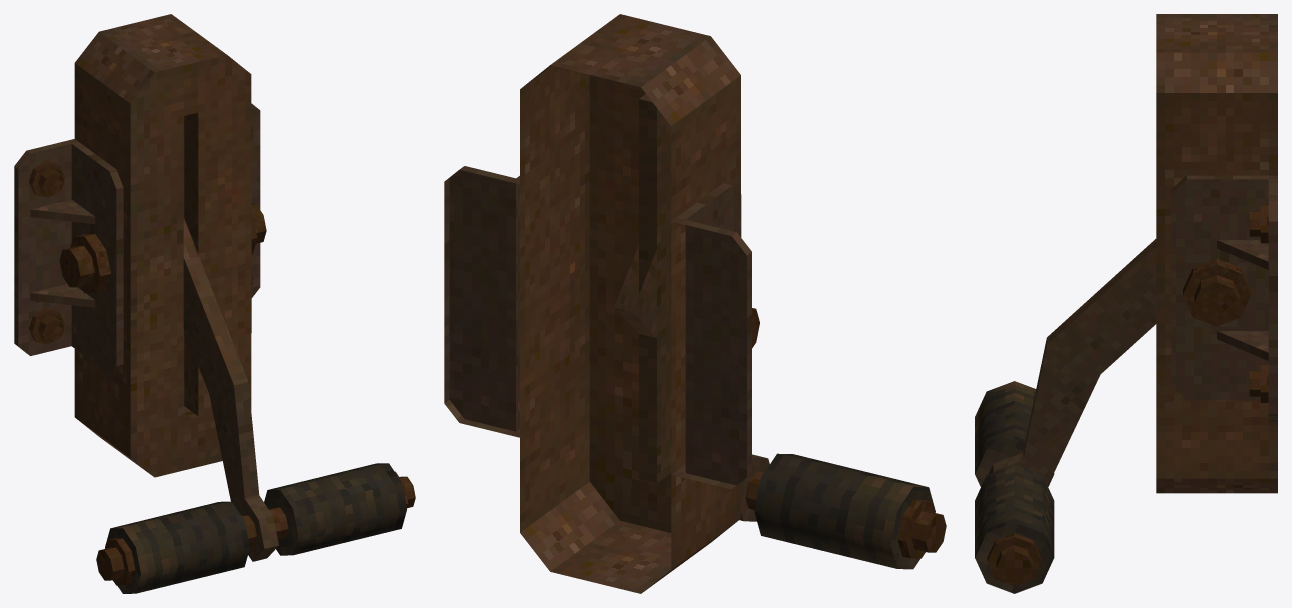
The model's file is lever_etx_8.glb.
3 renders of one model, left to right at view 1: azimuth 30°, elevation 25°; view 2: azimuth 150°, elevation 25°; view 3: azimuth 270°, elevation 25°, orthographic. The views are drawn at different scales.
Parts seen in each view (by area): view 1: lever_etx_8, lever_etx_8_child; view 2: lever_etx_8, lever_etx_8_child; view 3: lever_etx_8, lever_etx_8_child.
Part boxes in pixels (x1,y1,x2,y2): lever_etx_8: [14, 14, 266, 477]; lever_etx_8_child: [96, 218, 415, 593]; lever_etx_8: [444, 14, 759, 593]; lever_etx_8_child: [614, 244, 946, 569]; lever_etx_8: [1156, 14, 1277, 493]; lever_etx_8_child: [975, 239, 1156, 593].
Size of the model in its own units: 0.2254 by 0.3201 by 0.1792.
Materials: 1 (1 with a texture image).
